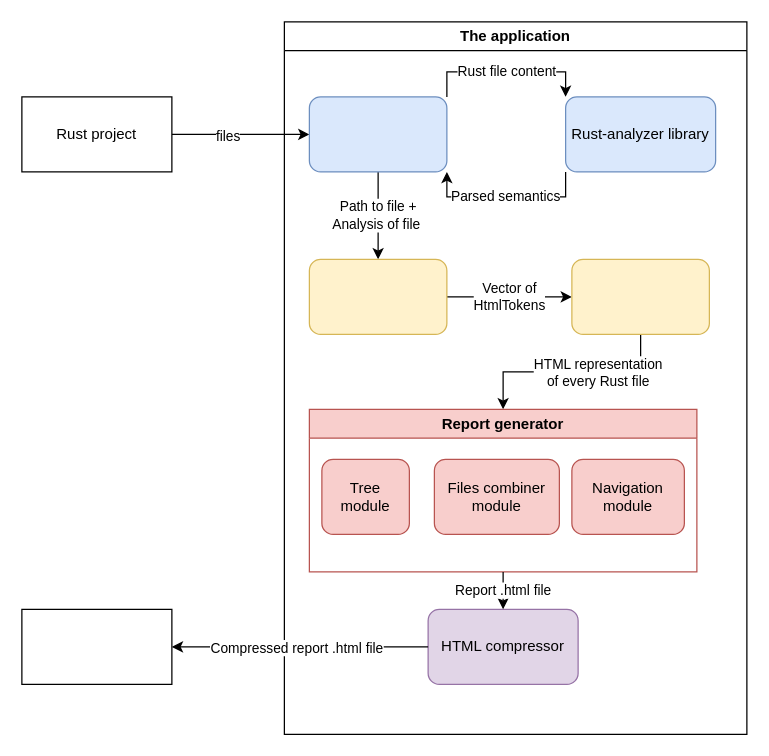
Some shapes in this 769 by 756 pixel diagram are drawn without their labels. Here are the shapes that lost their labels. From the top down, the centre of each, then its label:
At point 377,134: "Parser module".
At point 377,296: "Syntax processor".
At point 640,296: "HTML generator".
At point 96,646: "HTML Report".
